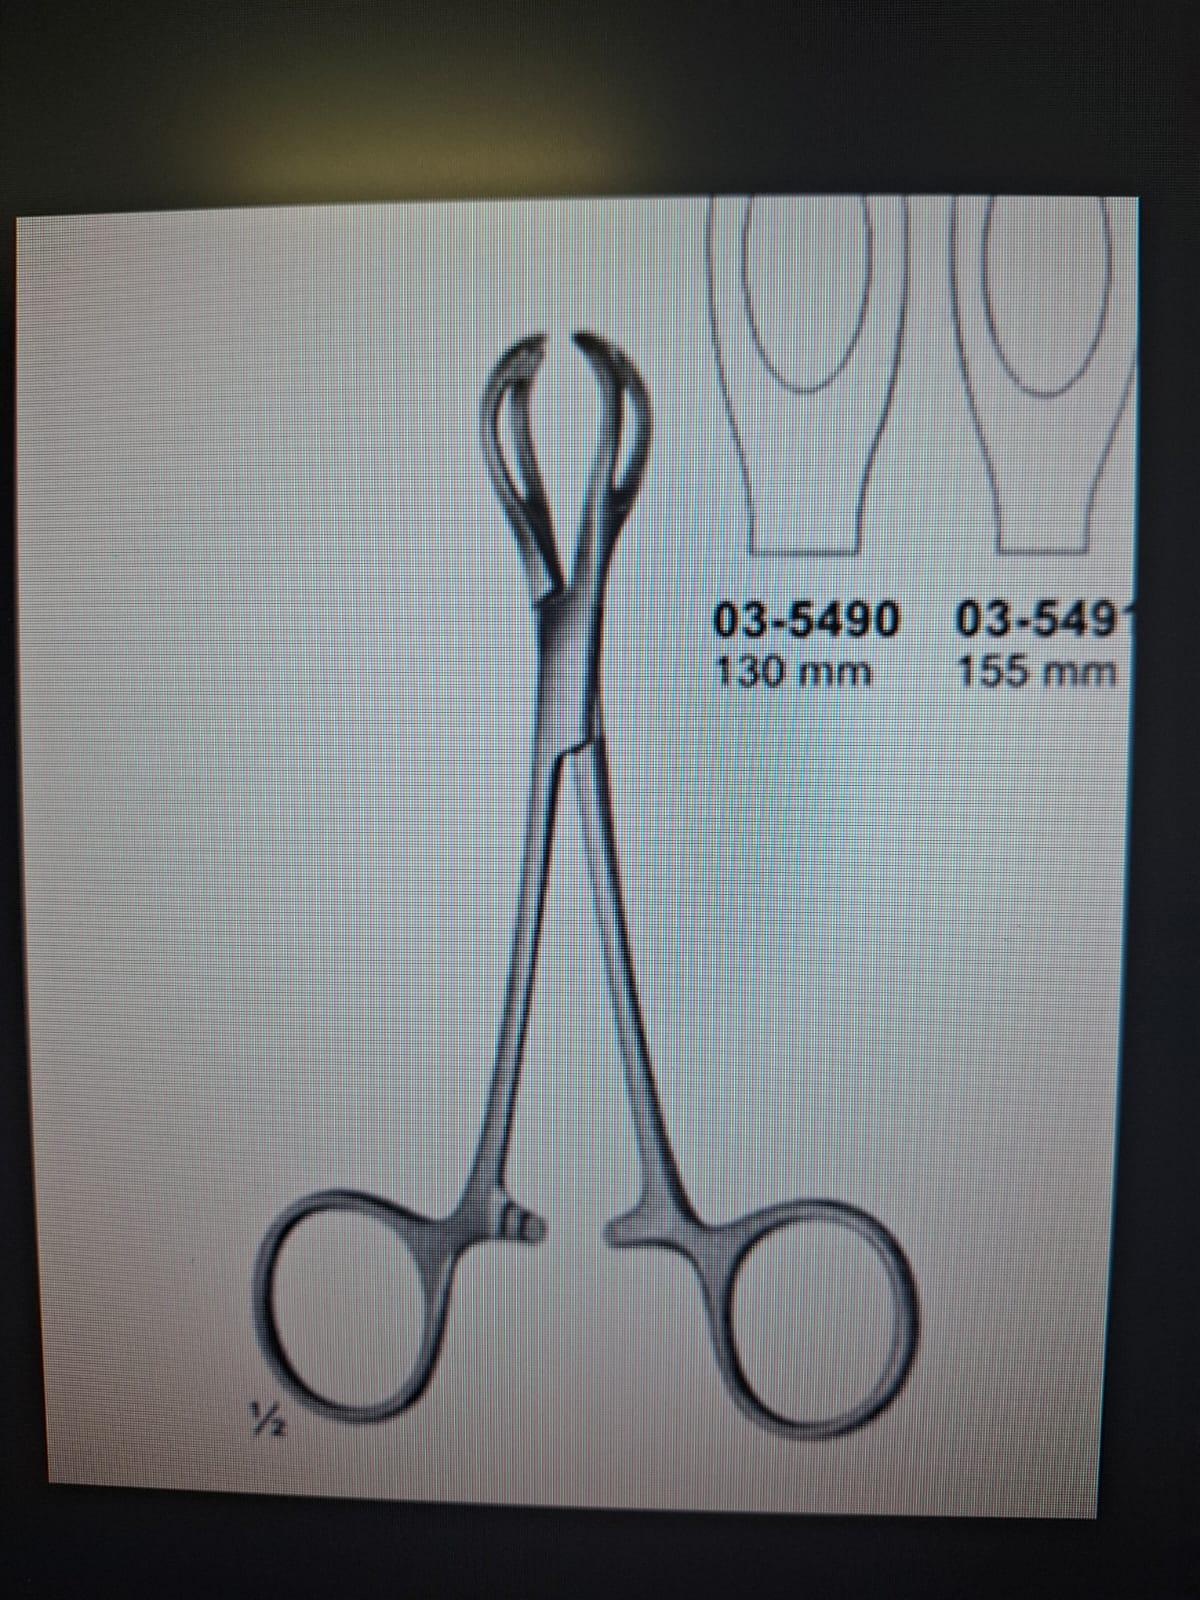Lane Tissue Forceps: (234, 330, 928, 1448)
